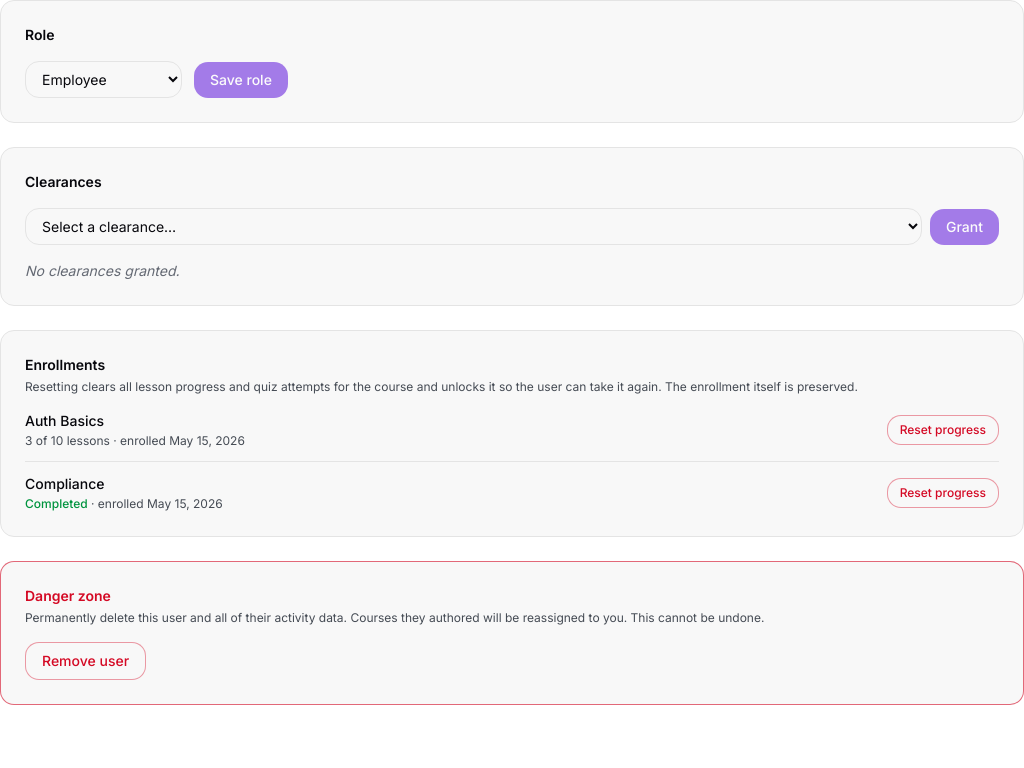
Test case: UserDetailManager — role card › enables Save role when the role changes
Select "Admin" in the dropdown named "User role" at (104, 80), box left=25, top=61, right=182, bottom=98
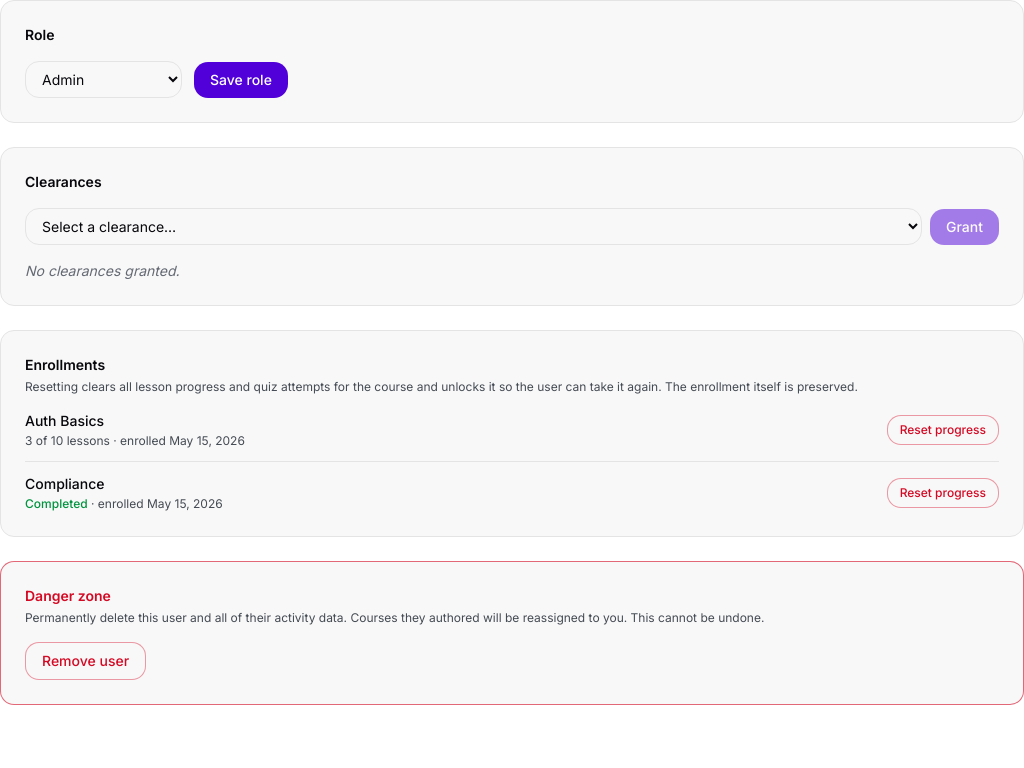
Check: the button "Save role" is enabled, box left=194, top=62, right=288, bottom=98
